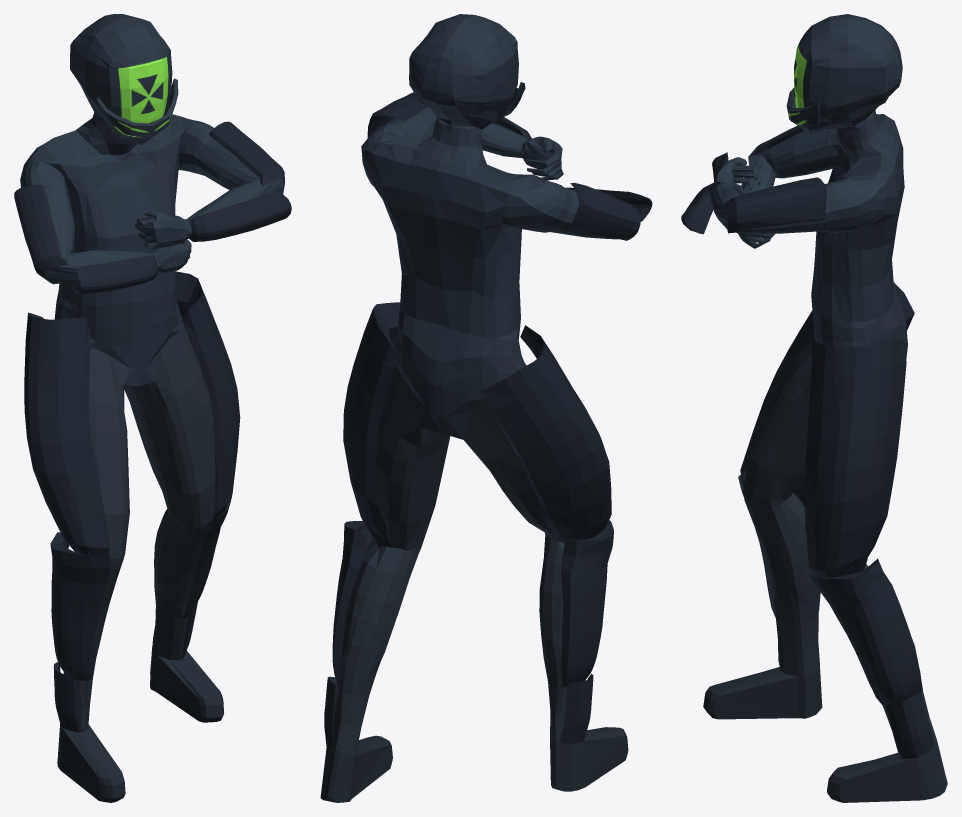
Rendered from Bastion_WB_000013.obj.
The picture shows the model from 3 angles, left to right: view 1: azimuth 30°, elevation 25°; view 2: azimuth 150°, elevation 25°; view 3: azimuth 270°, elevation 25°; orthographic projection. The views are drawn at different scales.
Parts seen in each view (by area): view 1: Cube.002; view 2: Cube.002; view 3: Cube.002.
Boxes of the visible parts, box(x1,y1,x2,y2) form: Cube.002: box(14, 14, 291, 802); Cube.002: box(320, 14, 652, 802); Cube.002: box(681, 14, 947, 802).
Bounding box in the file's own units: 1.31 × 3.79 × 1.24.
